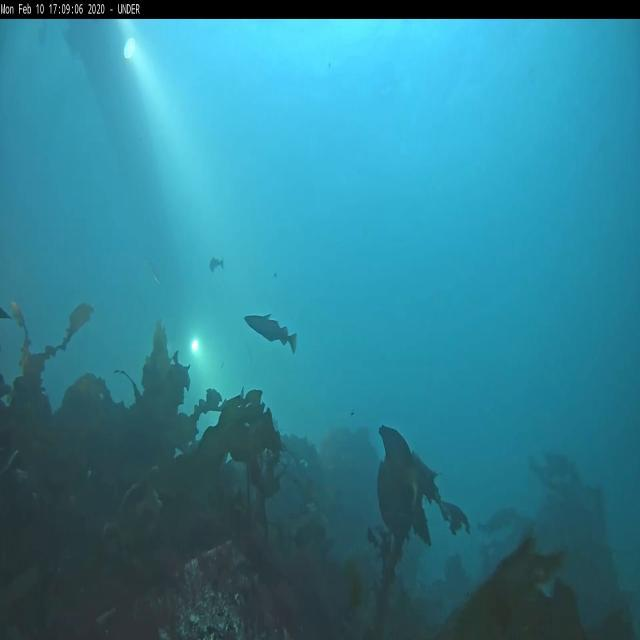fish: (244, 313, 298, 353), (210, 256, 224, 270)
